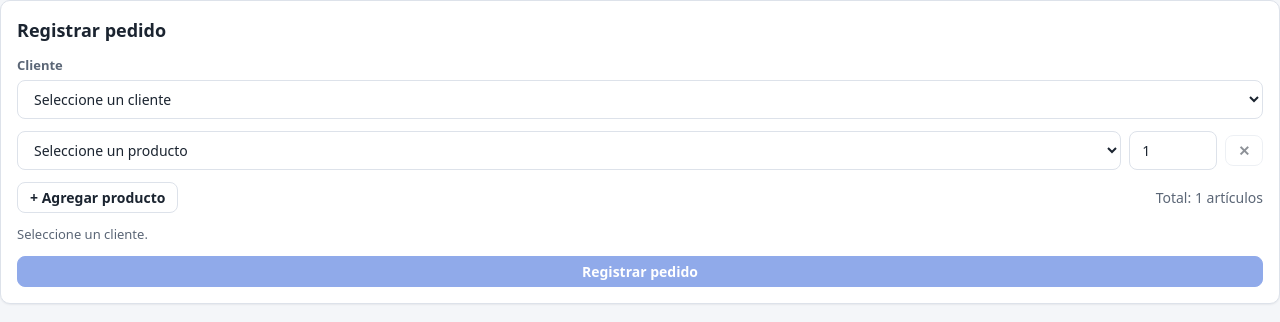
Test: OrderForm › becomes submittable once customer and product are chosen
Select "Aurora Tech · Exprés" in the dropdown labelled "Cliente" at (640, 99), box [17,80,1263,118]
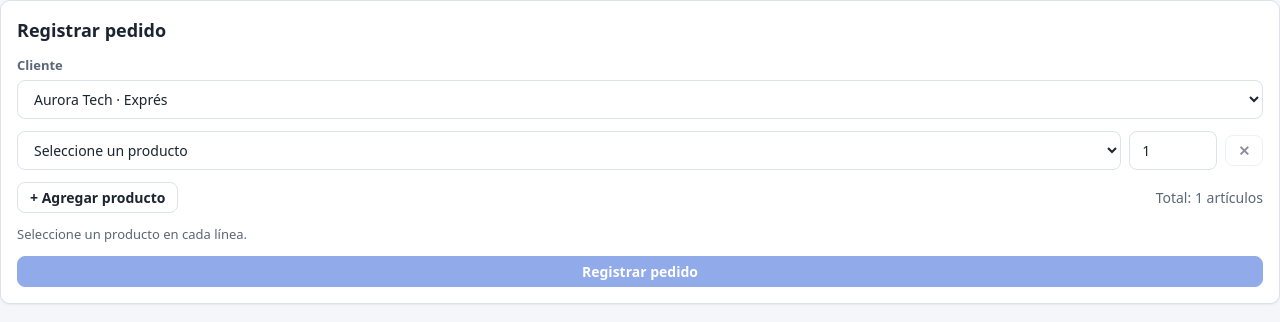
Select "Camiseta · Estándar" in the dropdown named "Producto 1" at (569, 150), box [17,130,1121,170]
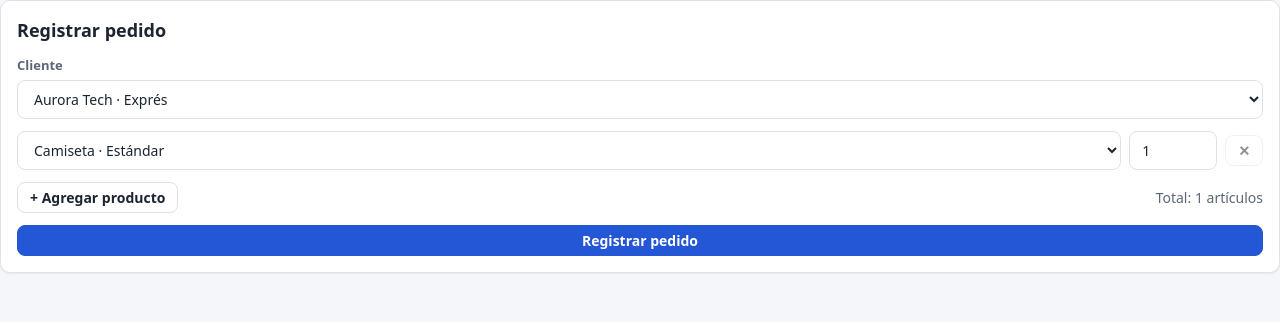
Now the button "Registrar pedido" is enabled, box [17,224,1263,256]
